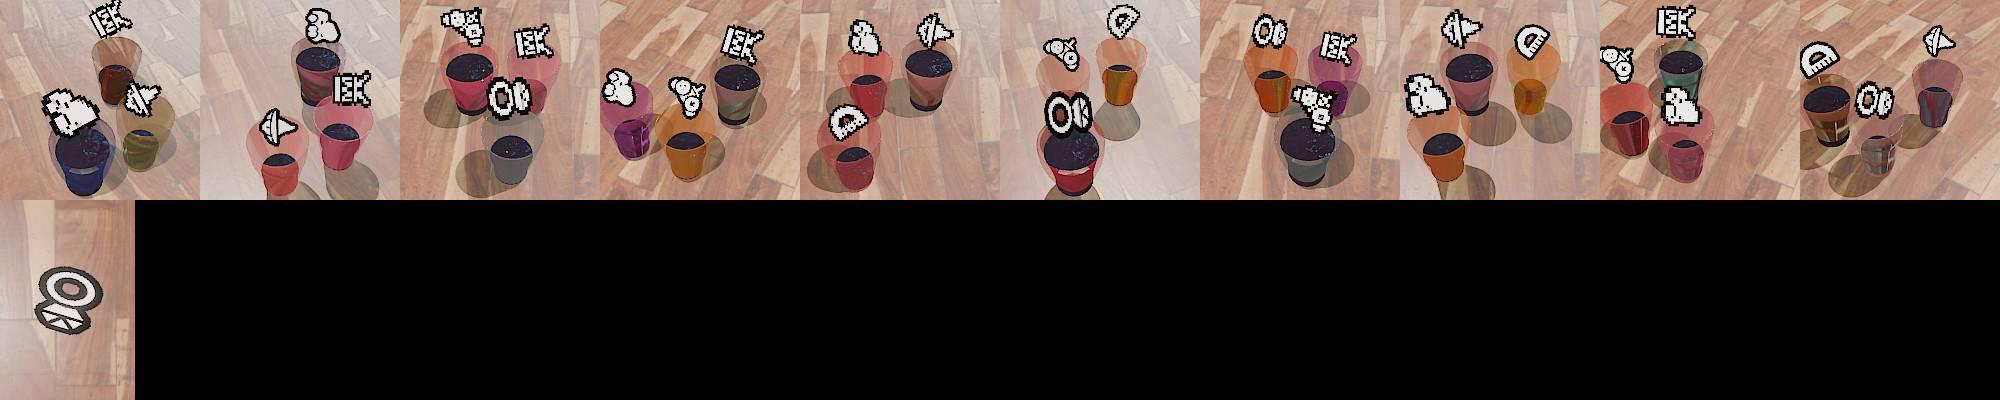icon: (33, 264, 106, 335), (41, 87, 99, 136), (1290, 82, 1338, 132), (483, 75, 536, 121), (1404, 70, 1452, 117), (719, 23, 767, 65), (439, 6, 485, 48), (1658, 84, 1703, 126), (1439, 9, 1481, 51), (88, 1, 133, 41), (667, 75, 707, 118), (1853, 82, 1897, 121), (827, 102, 869, 141), (915, 13, 955, 52), (259, 106, 298, 146), (1798, 42, 1841, 80), (332, 69, 372, 107), (514, 23, 556, 60), (1598, 45, 1635, 87), (1656, 4, 1699, 39), (1251, 13, 1291, 51), (304, 8, 342, 46), (1042, 34, 1080, 73), (601, 68, 636, 108), (122, 80, 161, 117), (1106, 3, 1143, 41), (1514, 23, 1551, 61), (847, 18, 883, 56), (1320, 29, 1356, 62), (1923, 25, 1958, 57)
